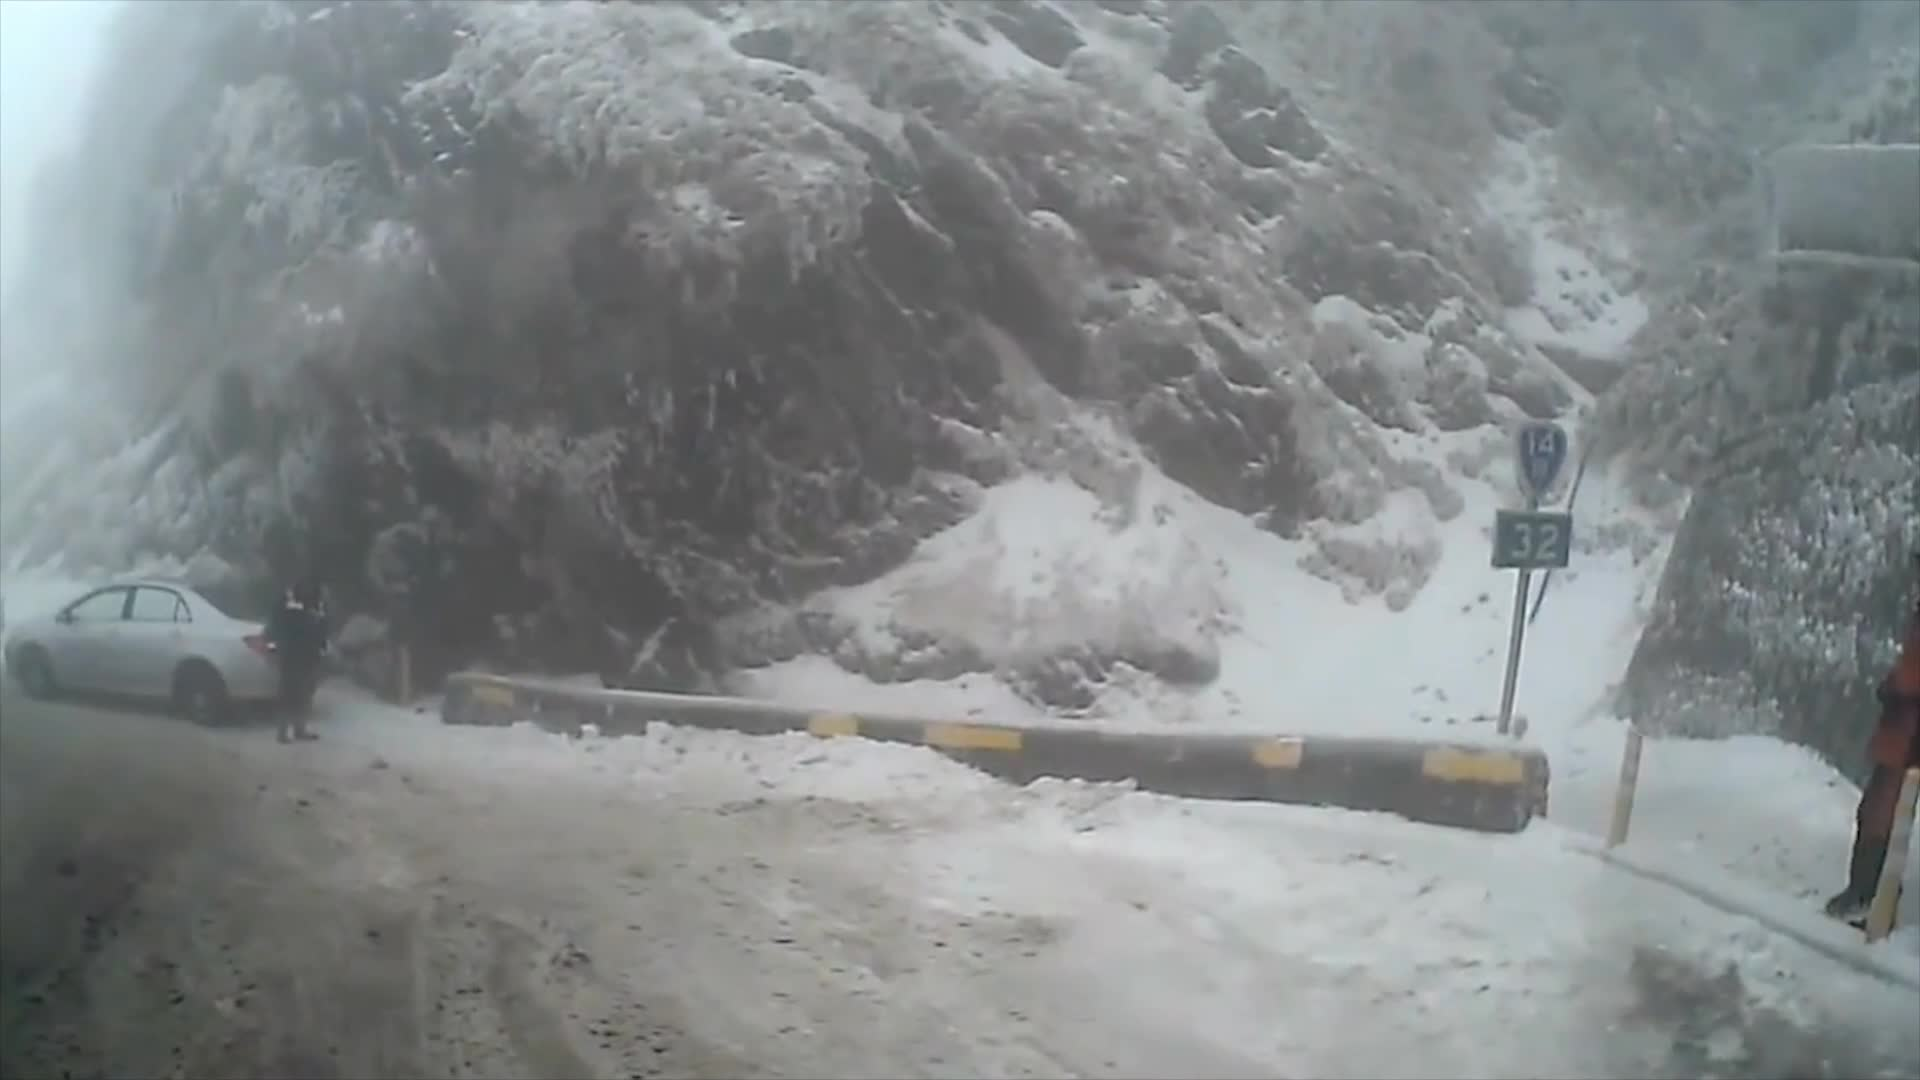pedestrian: (1828, 504, 1919, 944), (267, 565, 330, 740)
vehicle: (5, 573, 311, 723)
